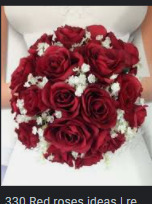RedRose: (50, 118, 91, 152), (84, 87, 116, 130), (35, 48, 77, 79), (81, 49, 122, 78), (50, 83, 83, 115), (114, 73, 143, 109), (50, 25, 88, 45), (118, 104, 148, 128), (94, 132, 119, 157), (19, 86, 41, 113), (121, 42, 142, 65), (19, 124, 38, 148), (104, 33, 119, 47)
